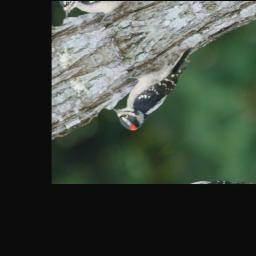Woodpecker: (99, 42, 216, 138)
